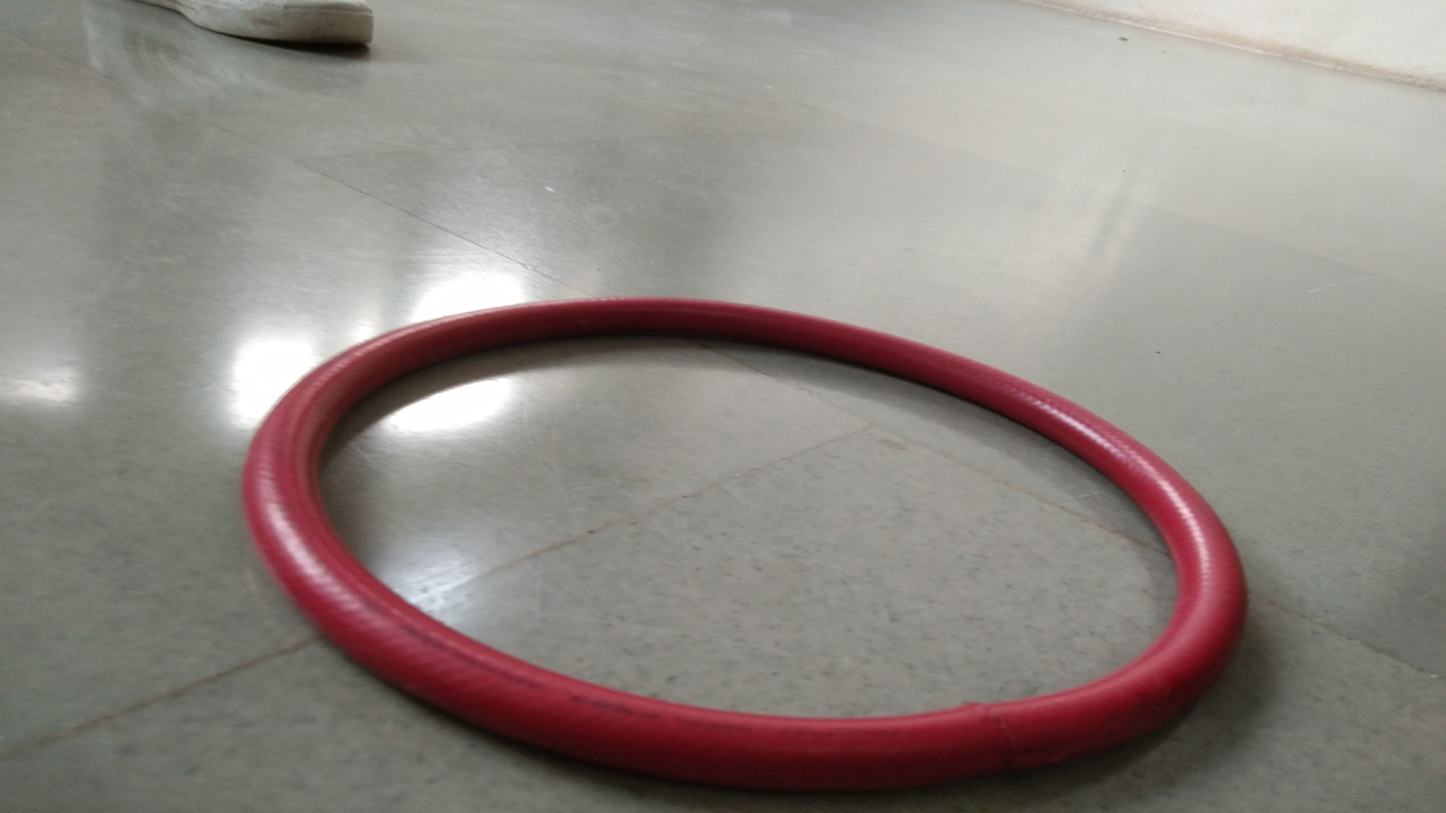Red ring: (244, 293, 1251, 785)
